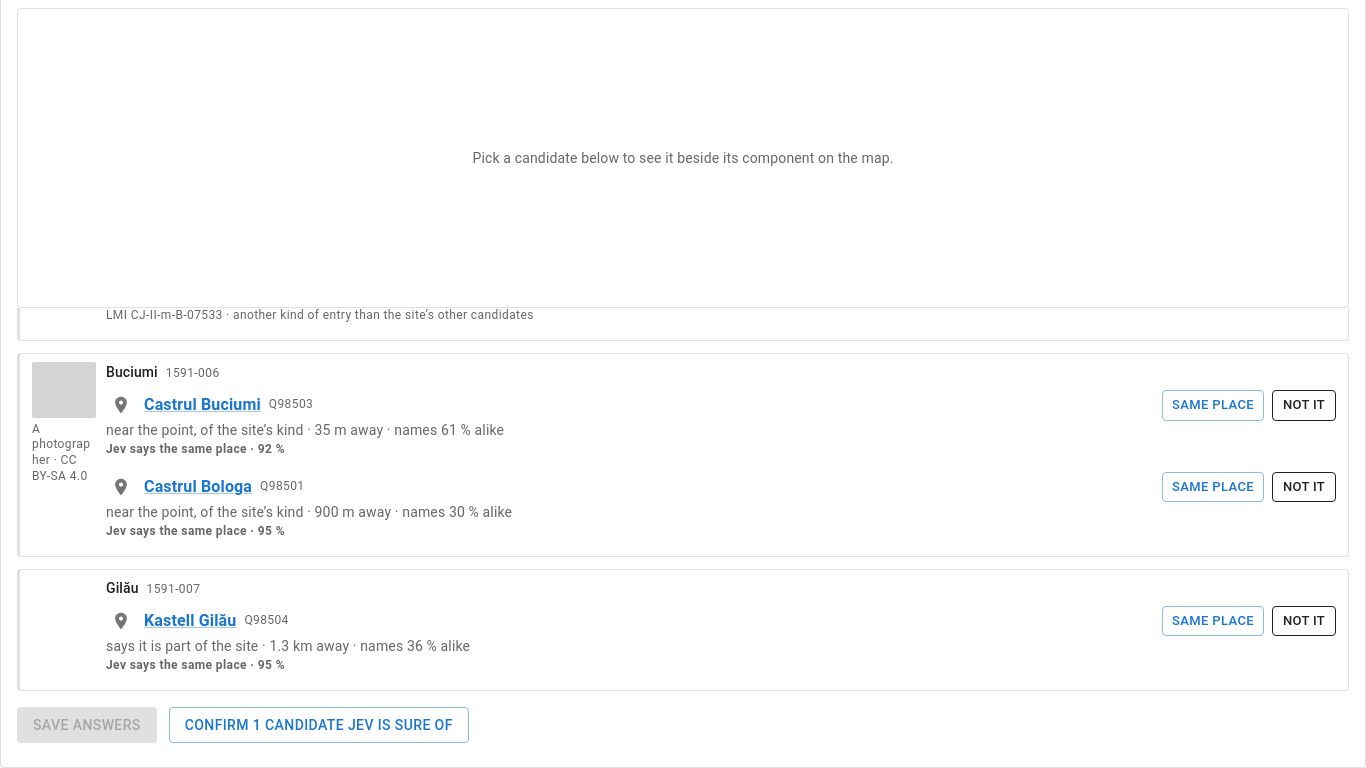
candidates that compete for a point or an item (#1272) › are left out of the one-button confirmation, which counts only what it can keep
(page scrolled)
Click the button "Confirm 1 candidate Jev is sure of": click(319, 725) [169,706,469,743]
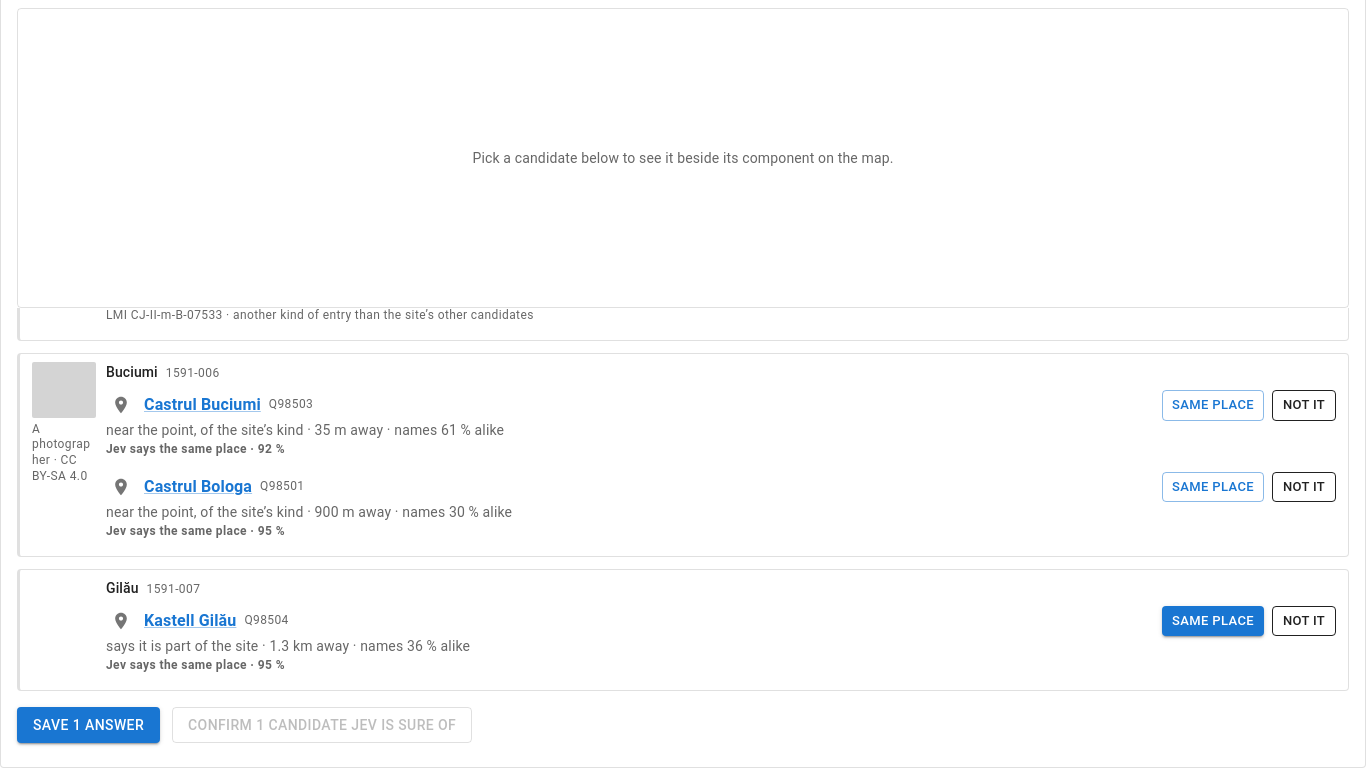
Now the button "Confirm 1 candidate Jev is sure of" is disabled, box [172,706,472,743]
